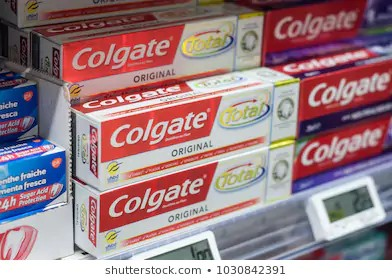colgate-medium: (62, 71, 300, 194), (74, 144, 297, 259), (41, 4, 266, 99)
